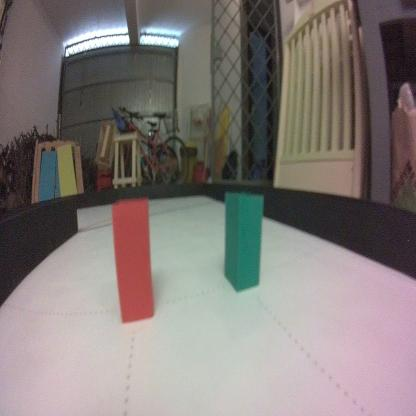green: (223, 190, 263, 292)
red: (110, 199, 156, 325)
